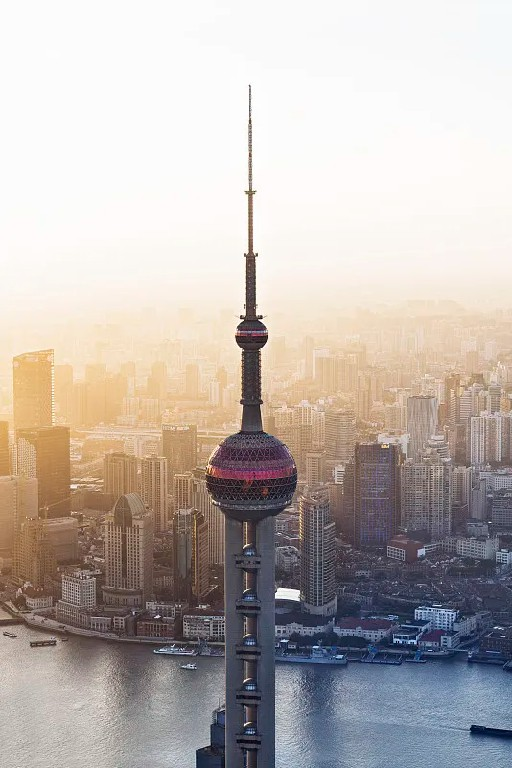Oriental: (207, 85, 297, 768)
